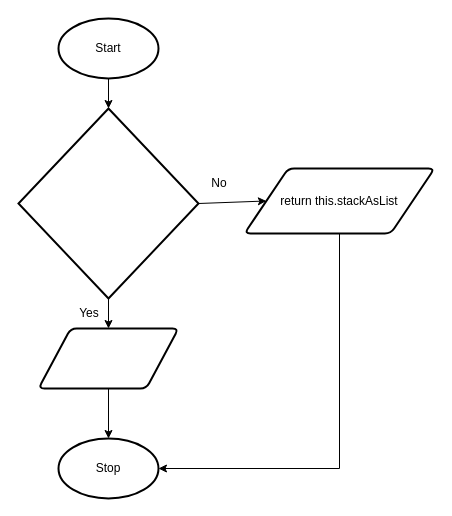
Some shapes in this 452 by 516 pixel diagram are drawn without their labels. Here are the shapes that lost their labels. From the top down, the centre of each, then its label:
point 108,203: if (this.stackAsList.length === 0)
point 108,358: return "nothing"
